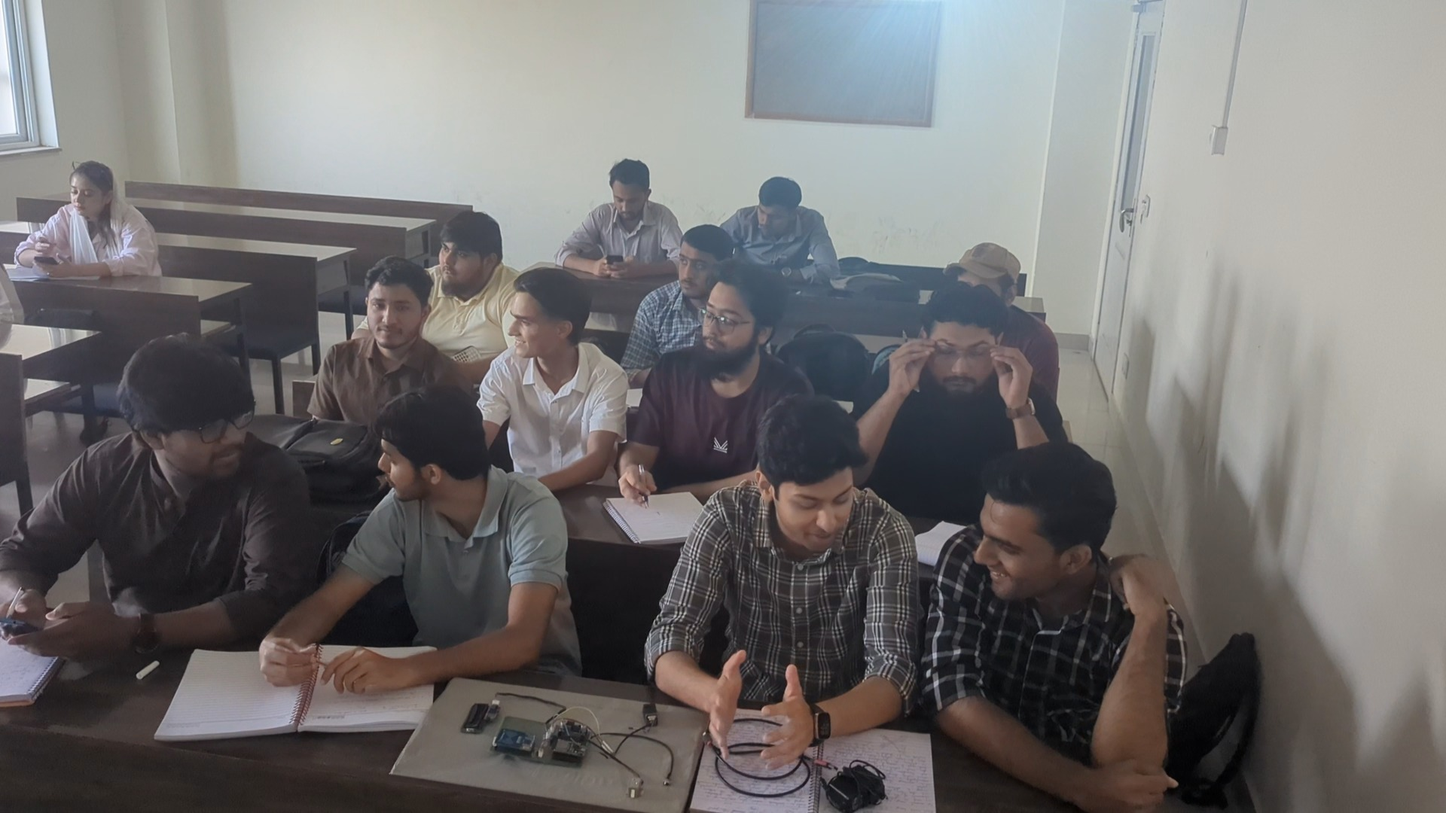look_forward: (632, 268, 778, 523), (486, 262, 640, 490), (873, 281, 1052, 460), (315, 255, 451, 404), (633, 219, 734, 357), (422, 203, 511, 314)
turn_head: (939, 438, 1178, 800), (315, 394, 573, 696), (675, 391, 884, 753)
using_device: (0, 329, 281, 679), (20, 152, 166, 289), (570, 148, 666, 282)
write: (731, 166, 842, 275)
